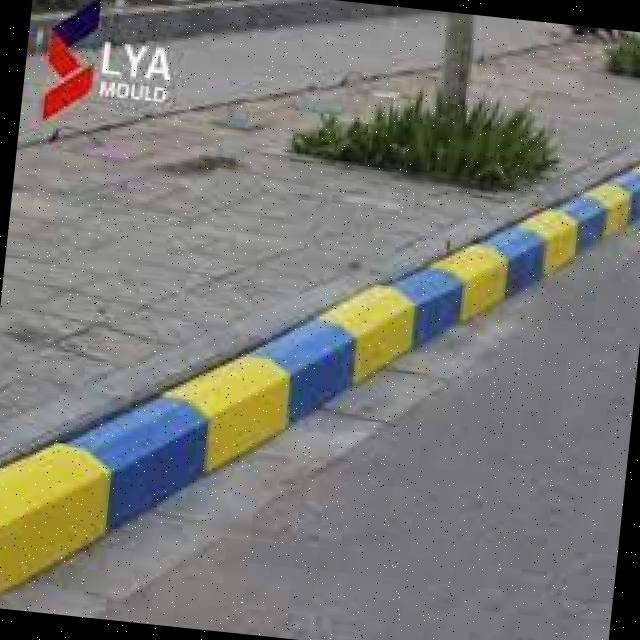curb: (63, 388, 204, 536), (157, 351, 292, 482), (1, 445, 116, 594), (250, 317, 358, 427), (318, 277, 421, 387)
